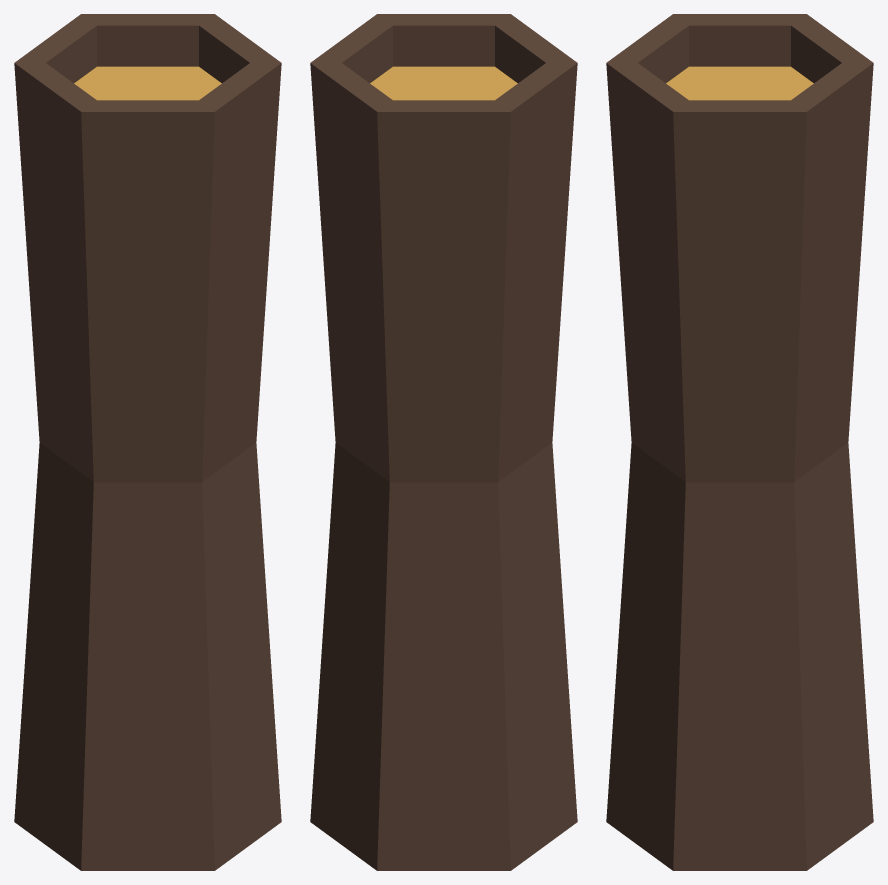
Rendered from Mesh_Log.glb.
3 renders of one model, left to right at view 1: azimuth 30°, elevation 25°; view 2: azimuth 150°, elevation 25°; view 3: azimuth 270°, elevation 25°, orthographic.
Visible parts, largest first — view 1: Mesh_Log; view 2: Mesh_Log; view 3: Mesh_Log.
Part boxes in pixels (x1,y1,x2,y2): Mesh_Log: (14,14,281,870); Mesh_Log: (310,14,577,870); Mesh_Log: (606,14,873,870).
Size of the model in its own units: 0.1369 by 0.4953 by 0.1581.
1 material, 1 textured.
